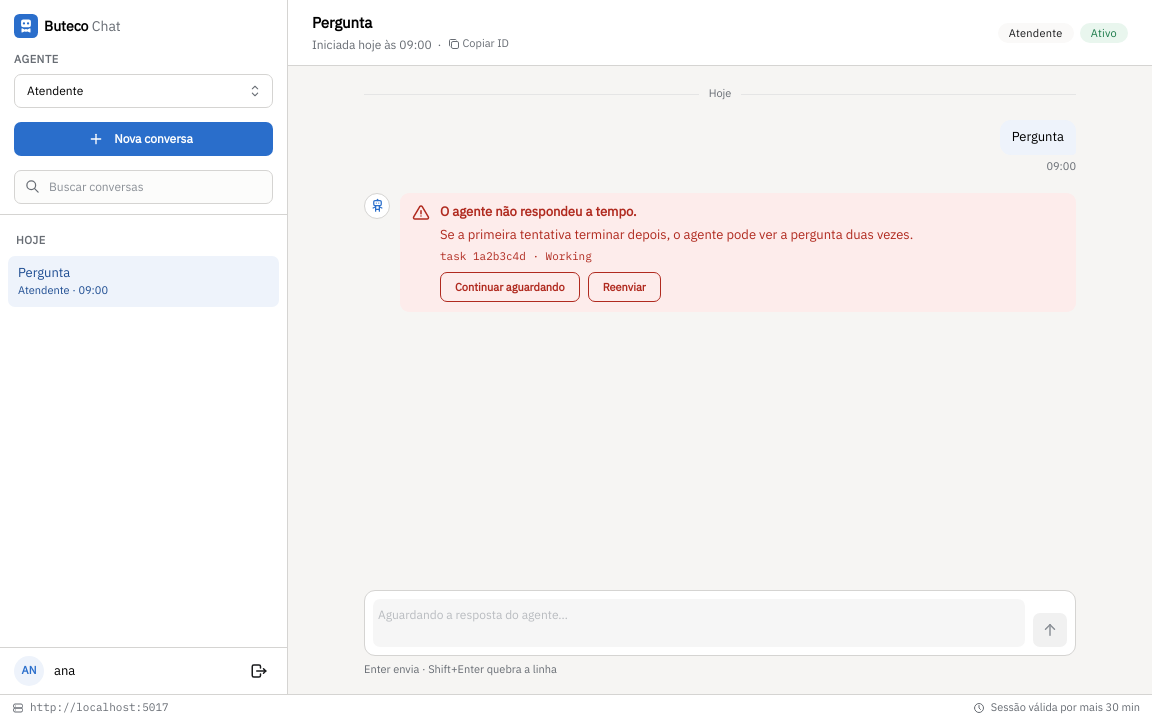
Test: várias conversas › resposta retomada → prazo esgotado → Continuar aguardando: continua sem duração pelo relógio local
Step 1. Click the button "Continuar aguardando" → (510, 288), box [440,272,580,302]
Wait 1000 ms
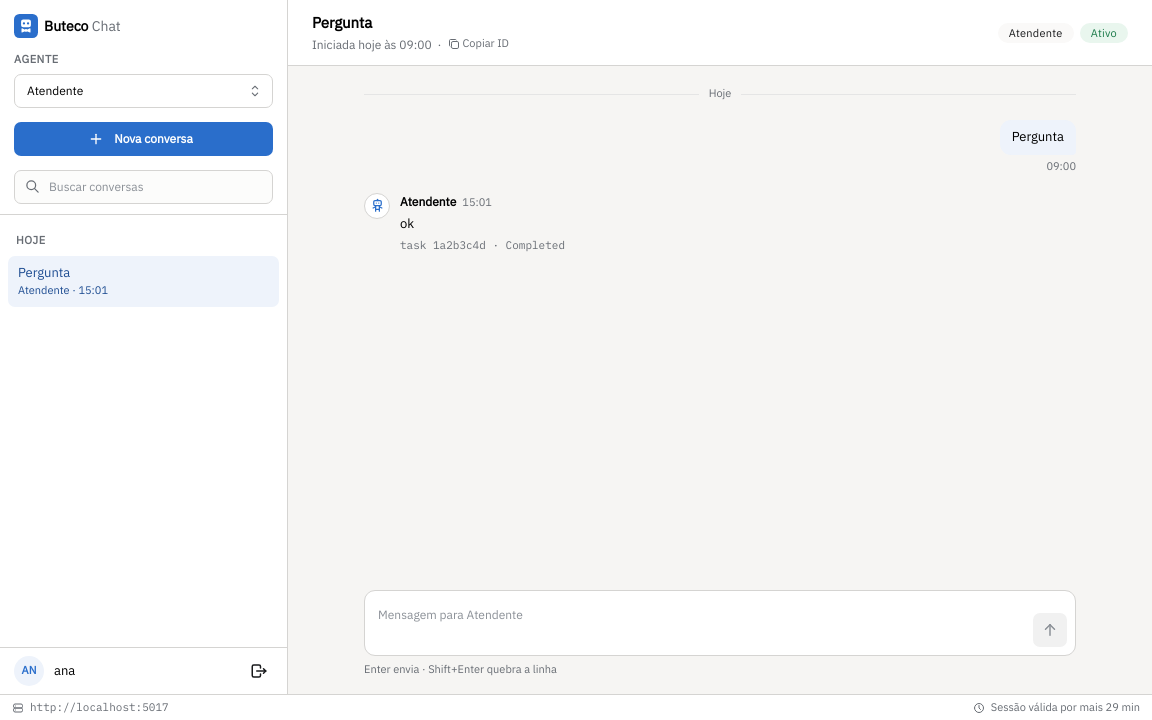
Check: the text "task 1a2b3c4d · Completed" is shown, box [400,238,565,252]
